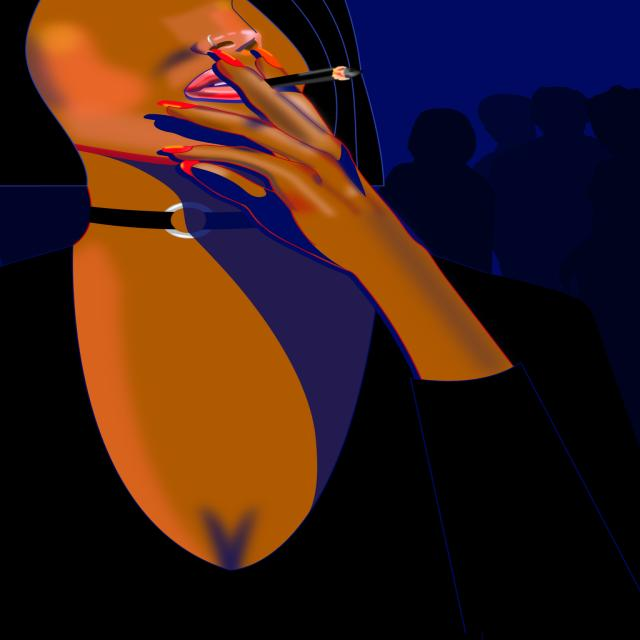smoking: (6, 0, 462, 290)
